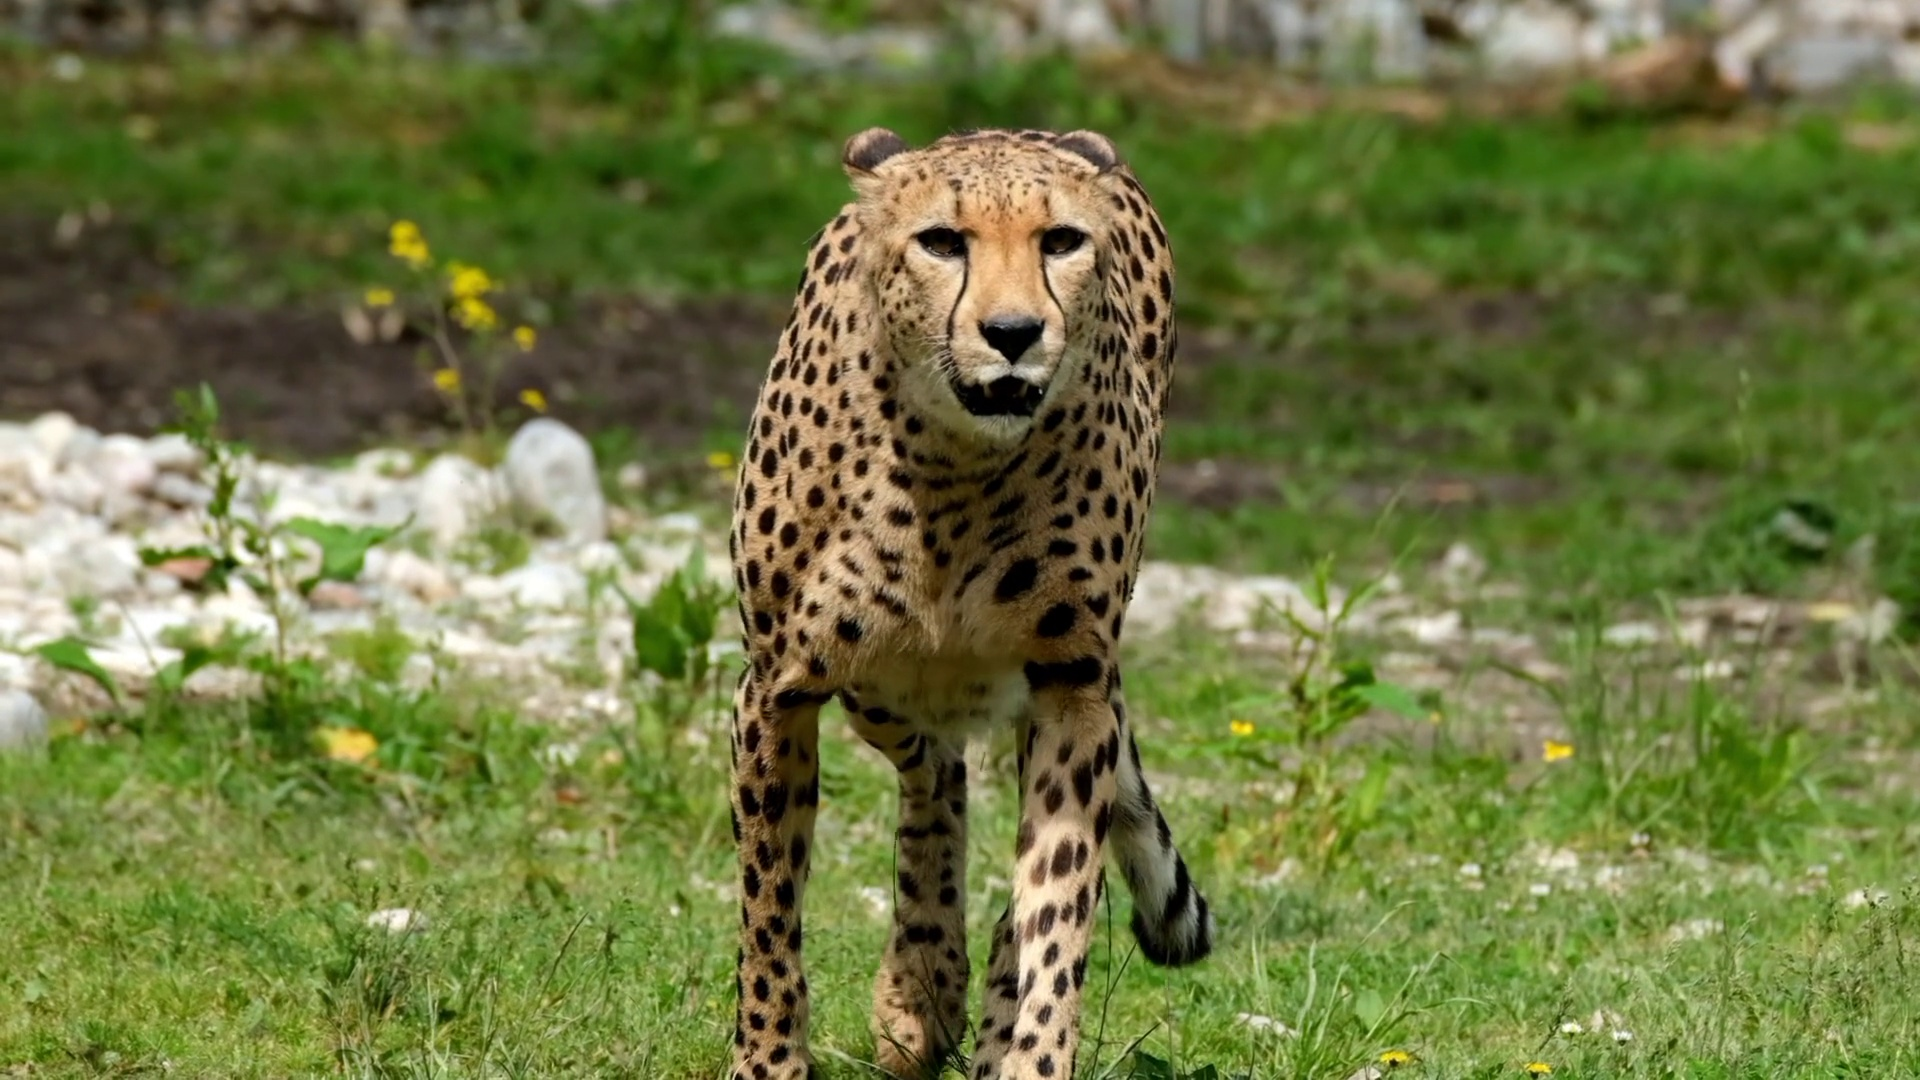Cheetah: (724, 94, 1218, 1080)
